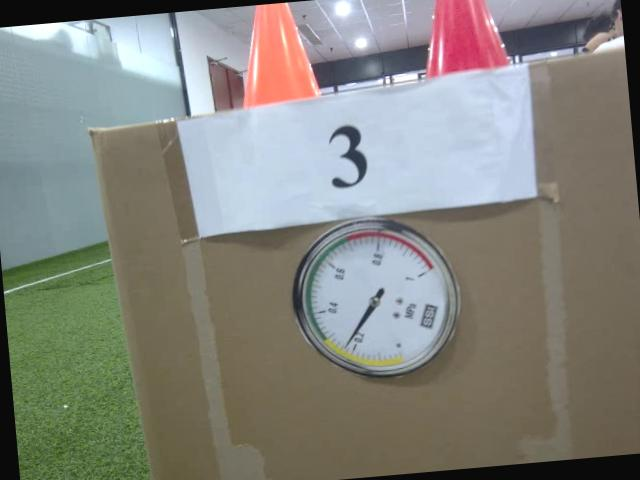3: (326, 120, 372, 194)
Dashboard: (284, 210, 471, 386)
orange_barrel: (229, 0, 325, 108)
red_barrel: (416, 0, 513, 82)
ssi: (418, 299, 439, 329)
